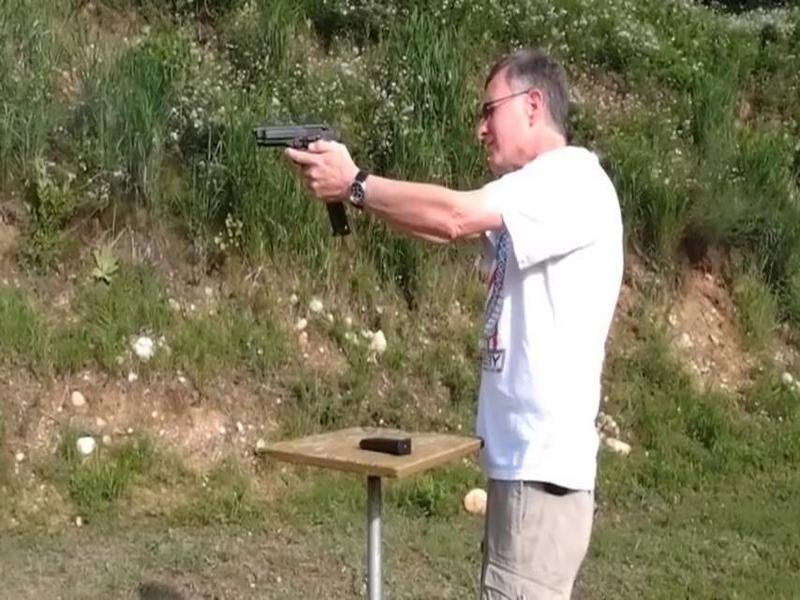Pistola: (239, 104, 366, 210)
